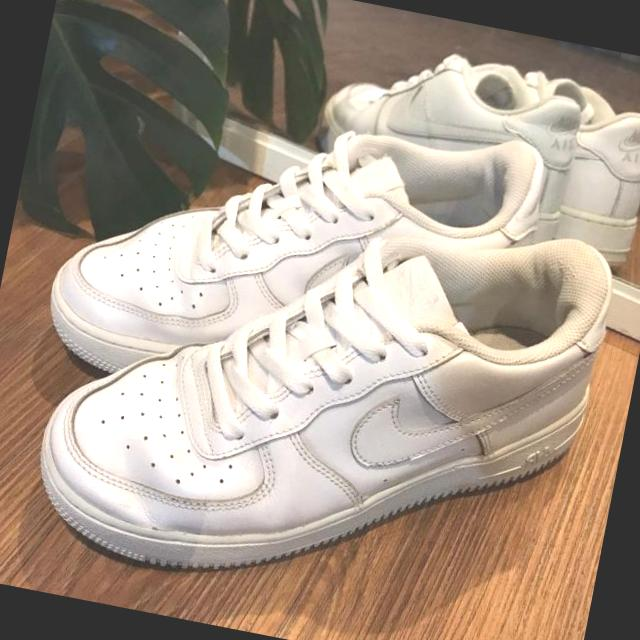nike_fake_airforce: (16, 140, 621, 640), (38, 59, 568, 454)
